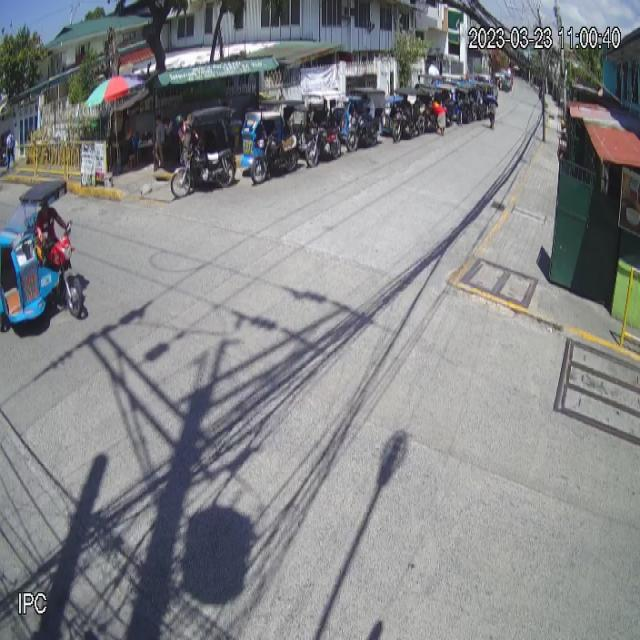Motorcycle: (0, 177, 85, 331)
